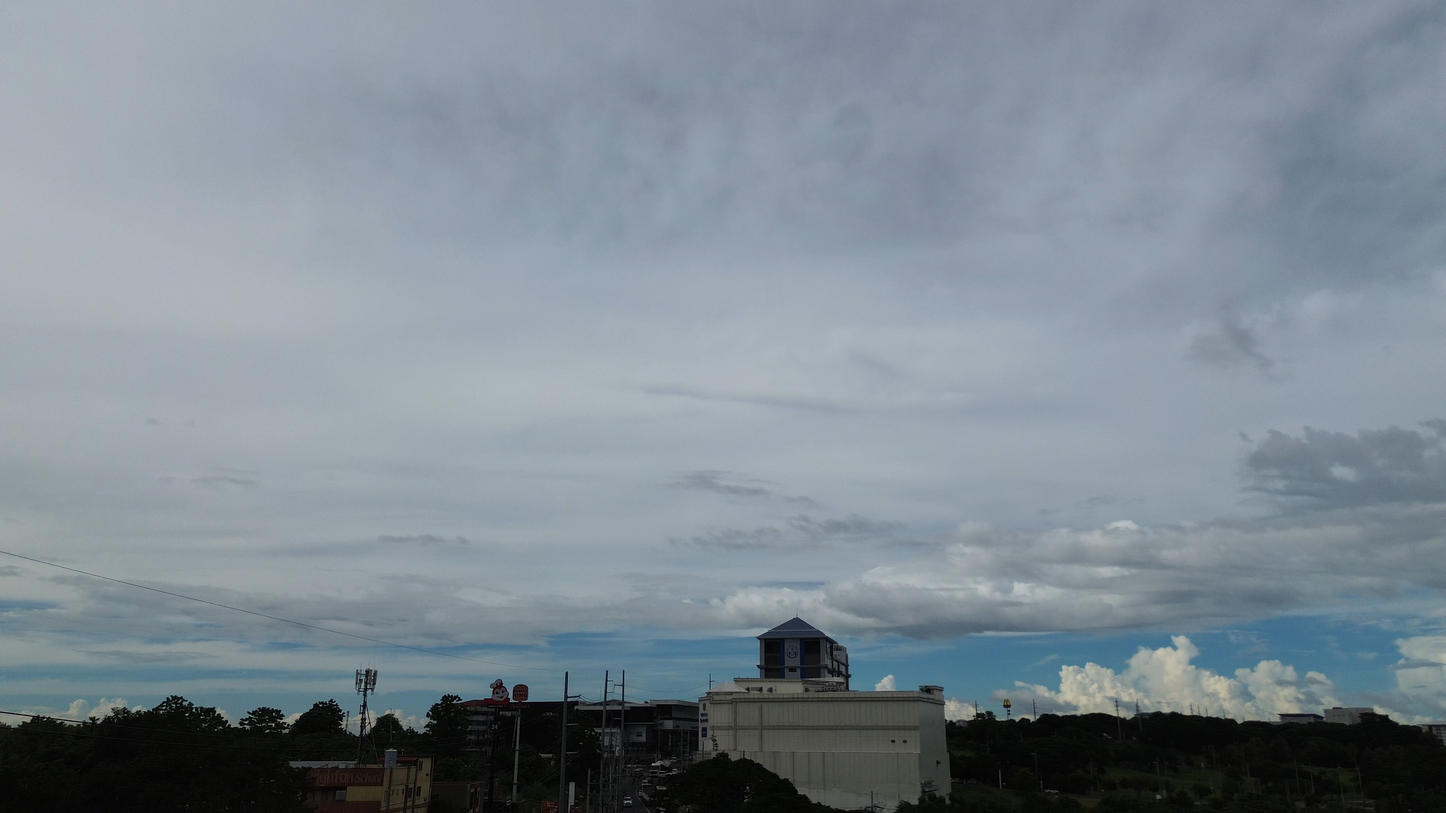car: (622, 796, 634, 807)
